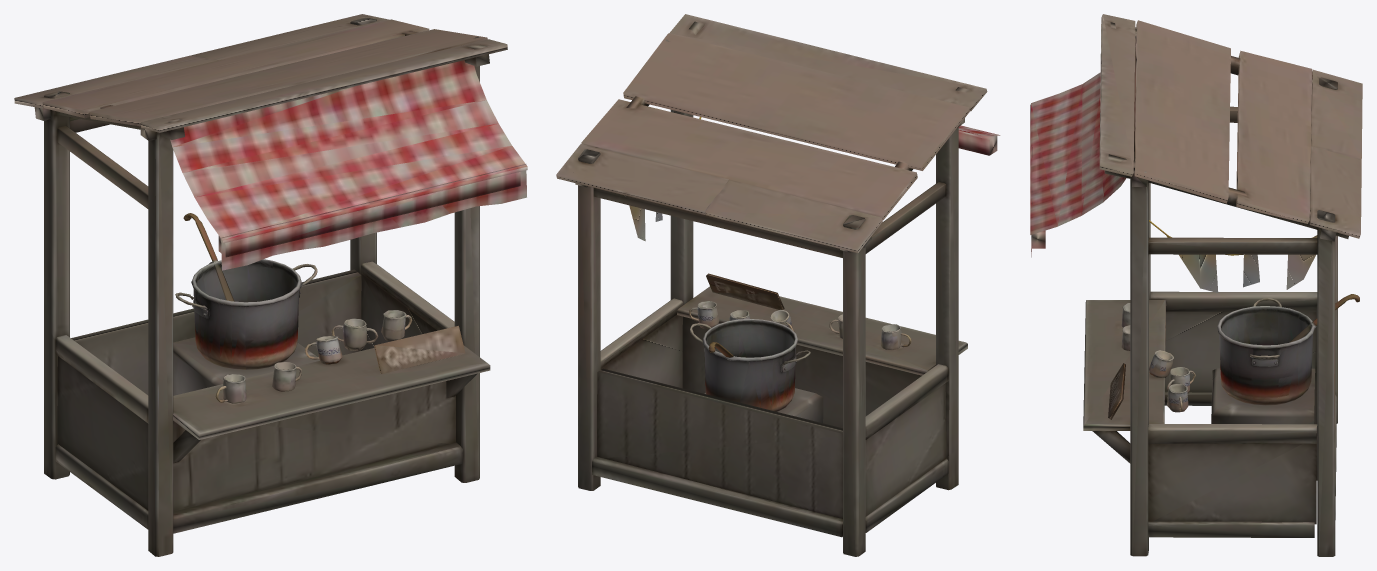
The model's file is barraca_quentao.glb.
The picture shows the model from 3 angles, left to right: view 1: azimuth 30°, elevation 25°; view 2: azimuth 150°, elevation 25°; view 3: azimuth 270°, elevation 25°; orthographic projection. The views are drawn at different scales.
Visible parts, largest first — view 1: Barraca de quentão; view 2: Barraca de quentão; view 3: Barraca de quentão.
Boxes of the visible parts, x1,y1,x2,y2 form: Barraca de quentão: (14, 14, 527, 556); Barraca de quentão: (556, 14, 1000, 556); Barraca de quentão: (1030, 14, 1362, 556).
Bounding box in the file's own units: 0.8184 × 0.998 × 0.7598.
1 material, 1 textured.
